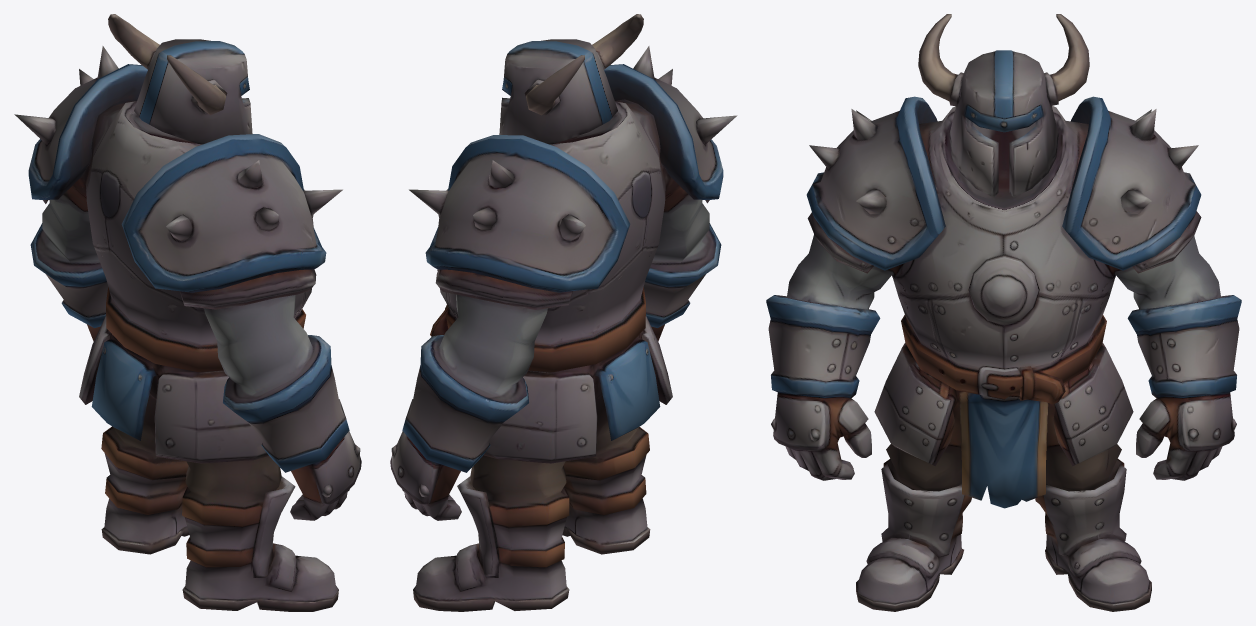
Rendered from heavy_tripo.glb.
3 views of the same model, side by side, from view 1: azimuth 30°, elevation 25°; view 2: azimuth 150°, elevation 25°; view 3: azimuth 270°, elevation 25° (orthographic). The views are drawn at different scales.
Parts seen in each view (by area): view 1: tripo_node_fbb7cd63-3ae2-4100-8eca-0c15f9a6a177; view 2: tripo_node_fbb7cd63-3ae2-4100-8eca-0c15f9a6a177; view 3: tripo_node_fbb7cd63-3ae2-4100-8eca-0c15f9a6a177.
Boxes of the visible parts, <box> form: tripo_node_fbb7cd63-3ae2-4100-8eca-0c15f9a6a177: <box>14,14,361,611</box>; tripo_node_fbb7cd63-3ae2-4100-8eca-0c15f9a6a177: <box>390,14,737,611</box>; tripo_node_fbb7cd63-3ae2-4100-8eca-0c15f9a6a177: <box>766,14,1241,611</box>.
Bounding box in the file's own units: 0.4238 × 0.998 × 0.8066.
1 material, 1 textured.
